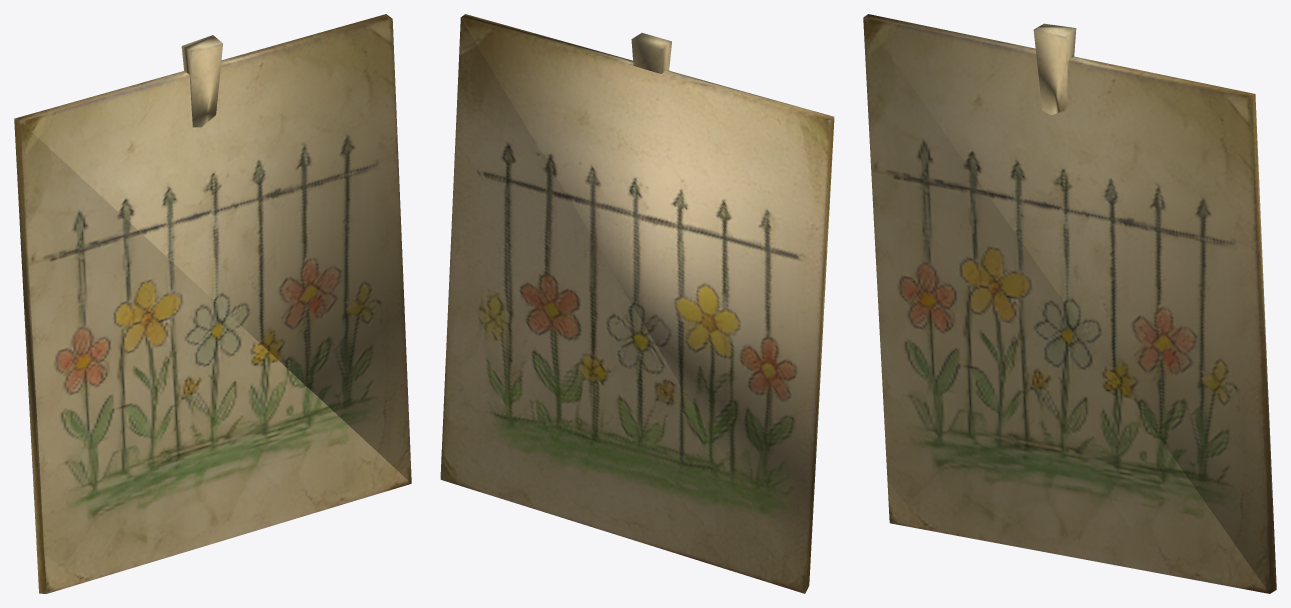
The model's file is picture5.fbx.
3 views of the same model, side by side, from view 1: azimuth 30°, elevation 25°; view 2: azimuth 150°, elevation 25°; view 3: azimuth 330°, elevation 25° (orthographic). The views are drawn at different scales.
Visible parts, largest first — view 1: picture5; view 2: picture5; view 3: picture5.
Boxes of the visible parts, box(x1,y1,x2,y2) form: picture5: box(14, 14, 411, 593); picture5: box(440, 14, 834, 593); picture5: box(863, 14, 1276, 593).
Size of the model in its own units: 176 by 221 by 8.2.
1 material, 1 textured.
